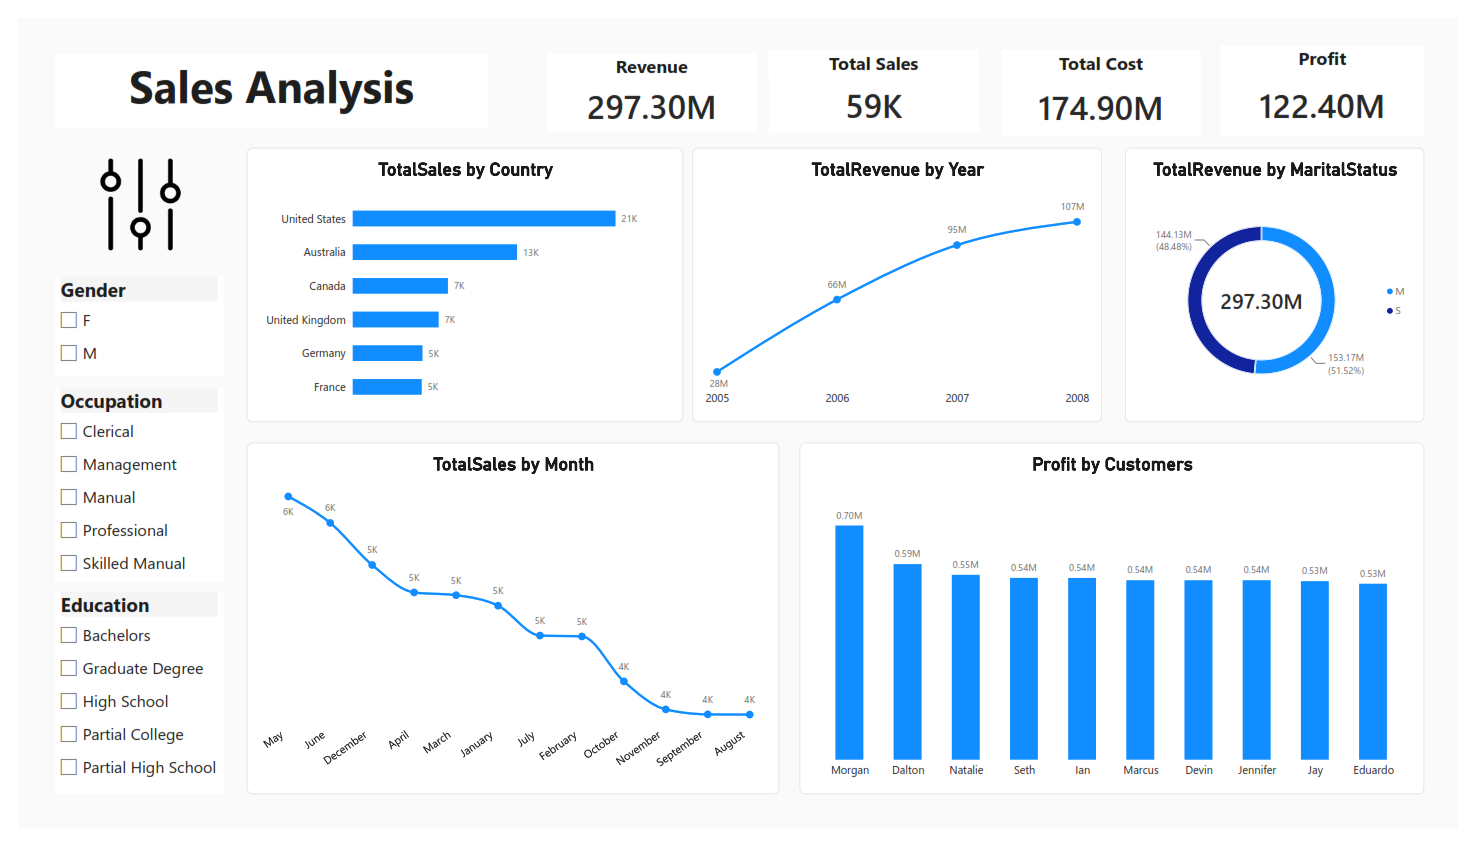

This screenshot's page, from the dashboard's own definition file:
{"tool":"powerbi","page":{"name":"Sales Analysis","canvas":[1920,1080],"ordinal":1},"visuals":[{"type":"cardVisual","title":"Revenue","fields":{"Data":["SalesTable.TotalRevenue"]},"box":[705.3,46.9,280,104],"z":0},{"type":"cardVisual","title":"Total Sales","fields":{"Data":["SalesTable.TotalSales"]},"box":[1001.3,42.9,280,110],"z":1000},{"type":"cardVisual","title":"Profit","fields":{"Data":["SalesTable.Profit"]},"box":[1603.3,36.9,272,120],"z":2000},{"type":"cardVisual","title":"Total Cost","fields":{"Data":["SalesTable.TotalCostOfGoods"]},"box":[1311.3,42.9,266,114],"z":3000},{"type":"textbox","box":[49.3,46.9,578,100],"z":4000},{"type":"slicer","fields":{"Values":["Customer.Gender"]},"box":[49.5,344.9,224.6,131.9],"z":5000},{"type":"slicer","fields":{"Values":["Customer.Education"]},"box":[49.5,765.3,224.6,269.9],"z":6000},{"type":"slicer","fields":{"Values":["Customer.Occupation"]},"box":[49.5,493.3,224.6,257.6],"z":7000},{"type":"image","box":[43.3,173.9,240,150],"z":8000},{"type":"clusteredBarChart","title":"TotalSales by Country","fields":{"Category":["Territory.SalesTerritoryCountry"],"Y":["SalesTable.TotalSales"]},"box":[304.6,172.9,582.5,366.4],"z":9000},{"type":"lineChart","fields":{"Y":["SalesTable.TotalSales"],"Category":["Date.Month"]},"box":[304.6,566,710.1,469.3],"z":10000},{"type":"lineChart","fields":{"Category":["Date.Year"],"Y":["SalesTable.TotalRevenue"]},"box":[899.5,172.9,545.5,366.4],"z":11000},{"type":"donutChart","fields":{"Y":["SalesTable.TotalRevenue"],"Category":["Customer.MaritalStatus"]},"box":[1475.8,172.9,399.3,366.4],"z":12000},{"type":"clusteredColumnChart","title":"Profit by Customers","fields":{"Y":["SalesTable.Profit"],"Category":["Customer.FirstName"]},"box":[1041.5,566,833.6,469.3],"z":13000}]}

Visuals, with their boxes in screenshot pixels (x1, y1, x2, y2), scaled from the page's 1920x1080 canvas onto the 1476x846 screenshot:
"Revenue" cardVisual: (x1=542, y1=37, x2=757, y2=118)
"Total Sales" cardVisual: (x1=770, y1=34, x2=985, y2=120)
"Profit" cardVisual: (x1=1233, y1=29, x2=1442, y2=123)
"Total Cost" cardVisual: (x1=1008, y1=34, x2=1213, y2=123)
textbox: (x1=38, y1=37, x2=482, y2=115)
slicer - Customer.Gender: (x1=38, y1=270, x2=211, y2=373)
slicer - Customer.Education: (x1=38, y1=599, x2=211, y2=811)
slicer - Customer.Occupation: (x1=38, y1=386, x2=211, y2=588)
image: (x1=33, y1=136, x2=218, y2=254)
"TotalSales by Country" clusteredBarChart: (x1=234, y1=135, x2=682, y2=422)
lineChart - SalesTable.TotalSales x Date.Month: (x1=234, y1=443, x2=780, y2=811)
lineChart - Date.Year x SalesTable.TotalRevenue: (x1=691, y1=135, x2=1111, y2=422)
donutChart - SalesTable.TotalRevenue x Customer.MaritalStatus: (x1=1135, y1=135, x2=1441, y2=422)
"Profit by Customers" clusteredColumnChart: (x1=801, y1=443, x2=1441, y2=811)
